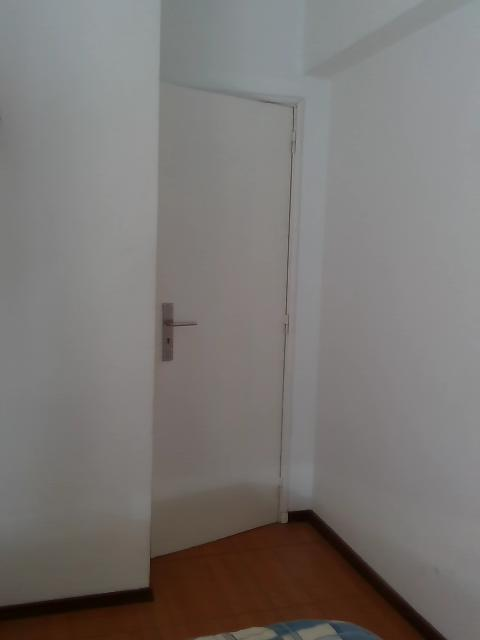door: (148, 77, 305, 567)
